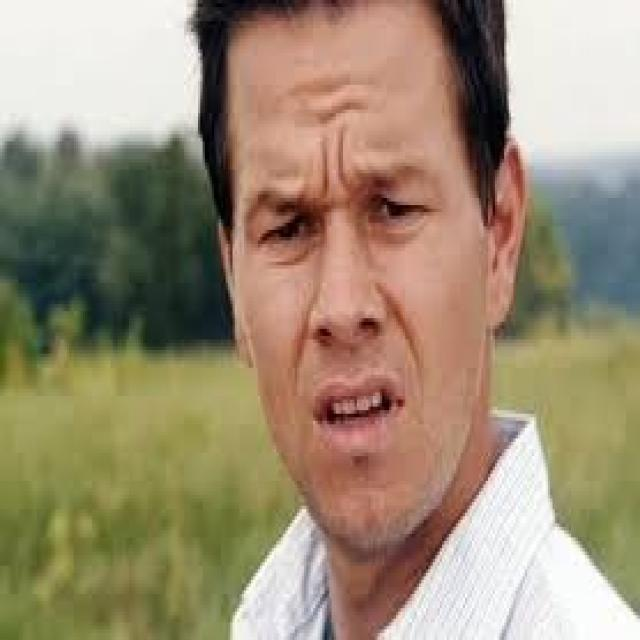normal_face: (207, 21, 522, 526)
